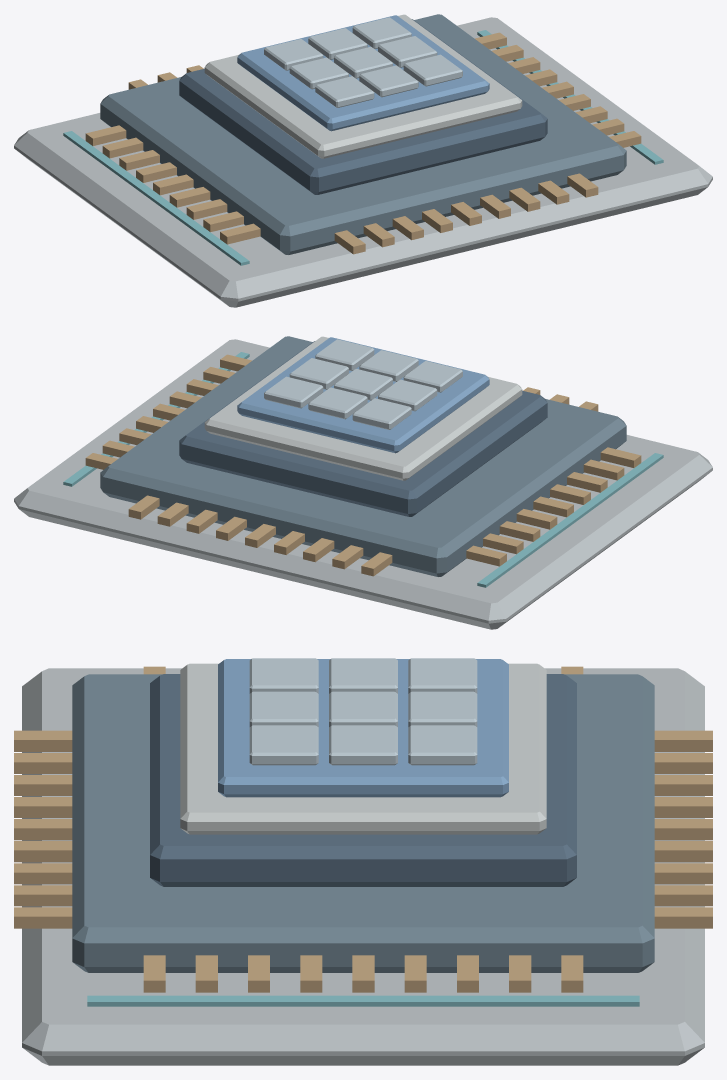
Rendered from core.glb.
3 renders of one model, top to bottom at view 1: azimuth 30°, elevation 25°; view 2: azimuth 150°, elevation 25°; view 3: azimuth 270°, elevation 25°, orthographic. The views are drawn at different scales.
Parts seen in each view (by area): view 1: core; view 2: core; view 3: core.
Boxes of the visible parts, x1,y1,x2,y2 form: core: (14,14,712,307); core: (14,336,712,629); core: (14,658,712,1065).
Bounding box in the file's own units: 8.8 × 2 × 6.96.
